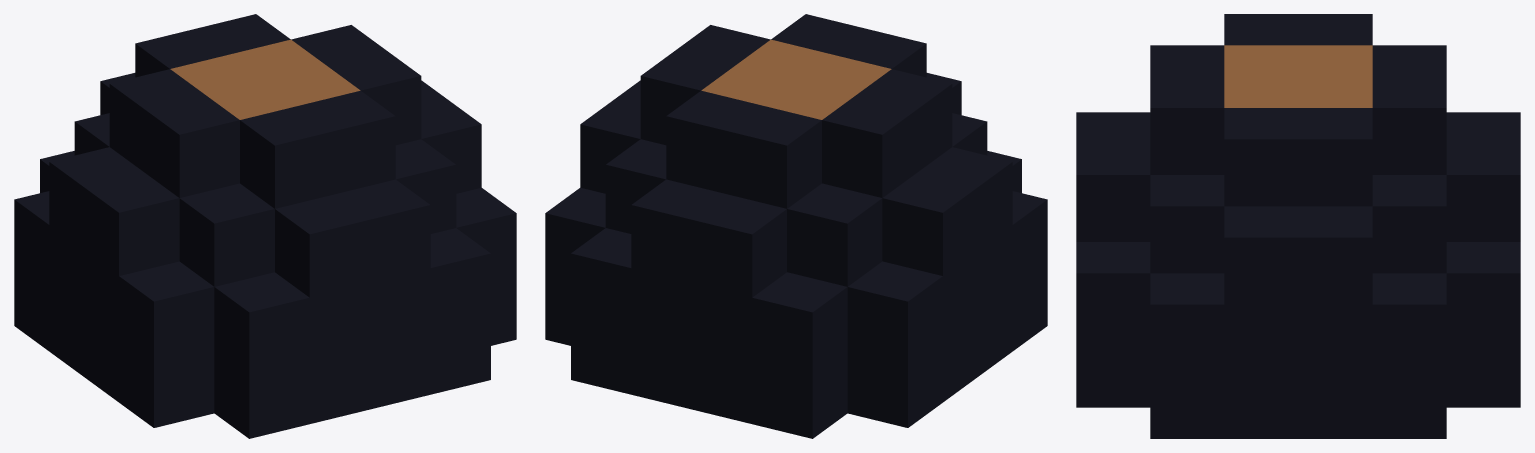
File: BombWick.obj
3 renders of one model, left to right at view 1: azimuth 30°, elevation 25°; view 2: azimuth 150°, elevation 25°; view 3: azimuth 270°, elevation 25°, orthographic. The views are drawn at different scales.
Size of the model in its own units: 0.6 by 0.4 by 0.6.
1 material, 1 textured.
